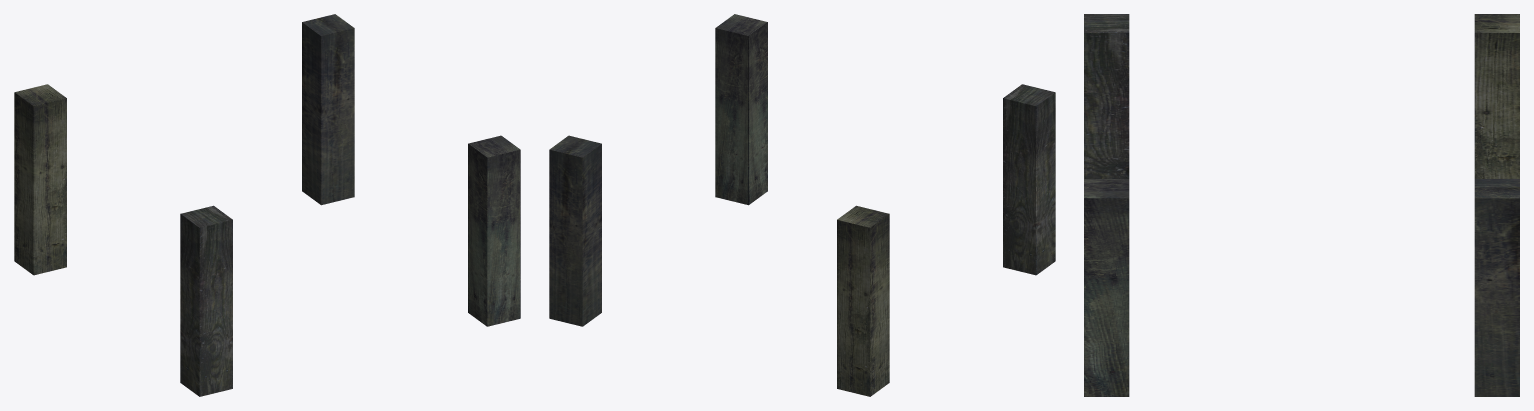
Rendered from OldWoodenPillars 1-2x2m.fbx.
3 renders of one model, left to right at view 1: azimuth 30°, elevation 25°; view 2: azimuth 150°, elevation 25°; view 3: azimuth 270°, elevation 25°, orthographic. The views are drawn at different scales.
Visible parts, largest first — view 1: OldWoodenPillars_1-2x2m; view 2: OldWoodenPillars_1-2x2m; view 3: OldWoodenPillars_1-2x2m.
Boxes of the visible parts, x1=… form: OldWoodenPillars_1-2x2m: x1=14, y1=14, x2=520, y2=396; OldWoodenPillars_1-2x2m: x1=549, y1=14, x2=1055, y2=396; OldWoodenPillars_1-2x2m: x1=1084, y1=14, x2=1519, y2=396.
Size of the model in its own units: 1.99 by 1 by 1.99.
